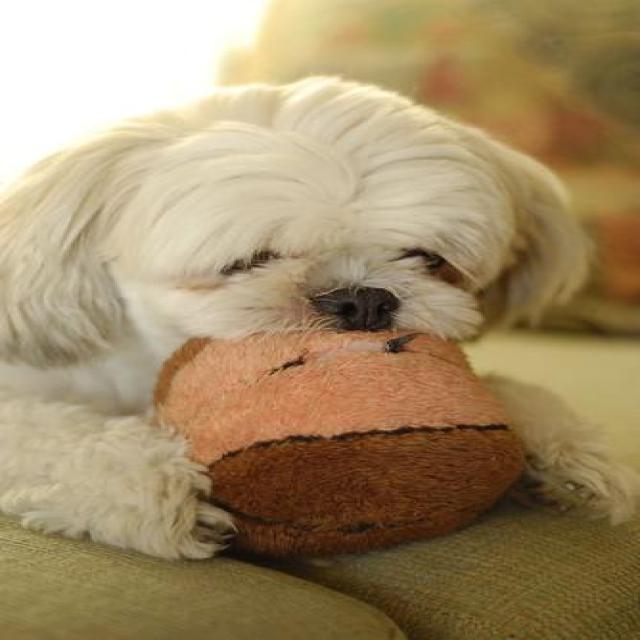shih_tzu: (0, 62, 636, 560)
